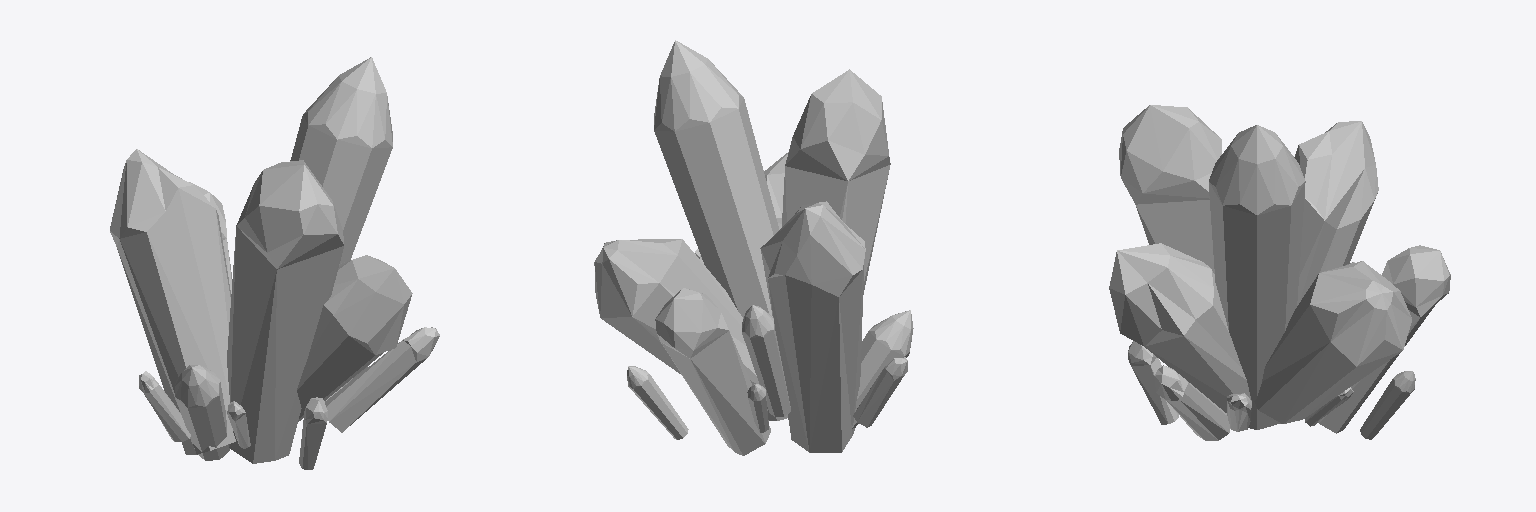
File: bigCrystal1.obj
3 renders of one model, left to right at view 1: azimuth 30°, elevation 25°; view 2: azimuth 150°, elevation 25°; view 3: azimuth 270°, elevation 25°, orthographic.
Parts seen in each view (by area): view 1: BigCrystal_Cone.018; view 2: BigCrystal_Cone.018; view 3: BigCrystal_Cone.018.
Boxes of the visible parts, <box> form: BigCrystal_Cone.018: <box>110,57,439,469</box>; BigCrystal_Cone.018: <box>594,40,913,455</box>; BigCrystal_Cone.018: <box>1109,105,1450,440</box>.
Bounding box in the file's own units: 6.05 × 8.28 × 7.04.